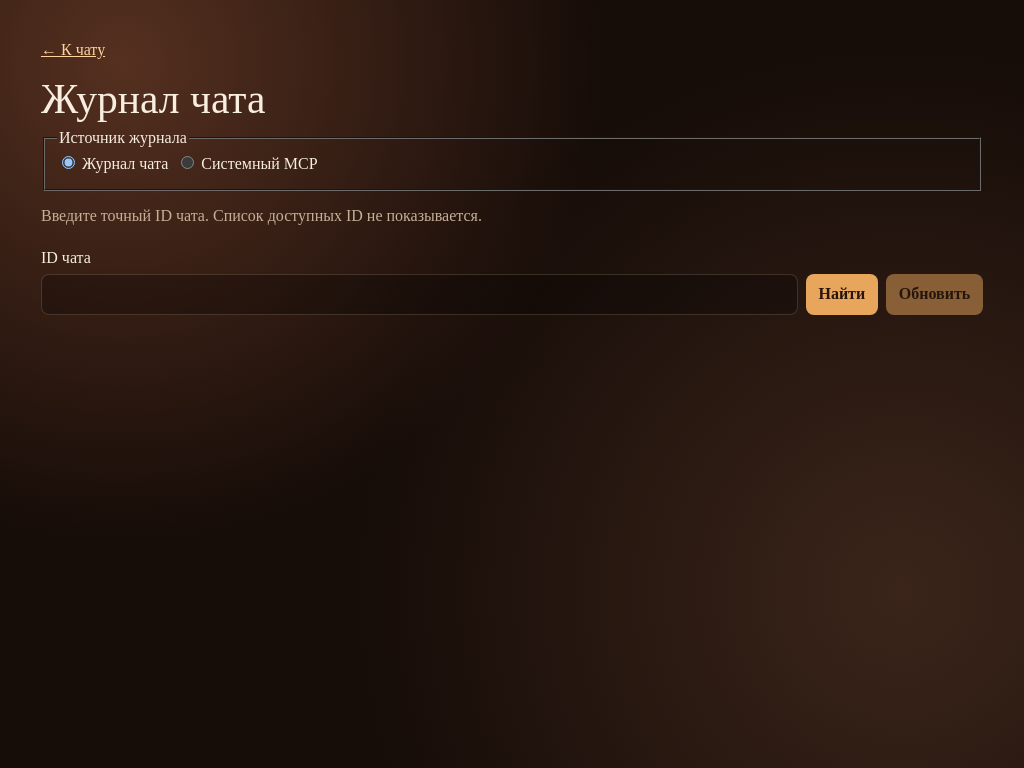
Test: AdminWorkspace › загружает MCP журнал без chat ID и показывает MCP/BrewMark событие
Click the radio button labelled "Системный MCP". click: point(188, 162)
box: [181,156,194,169]
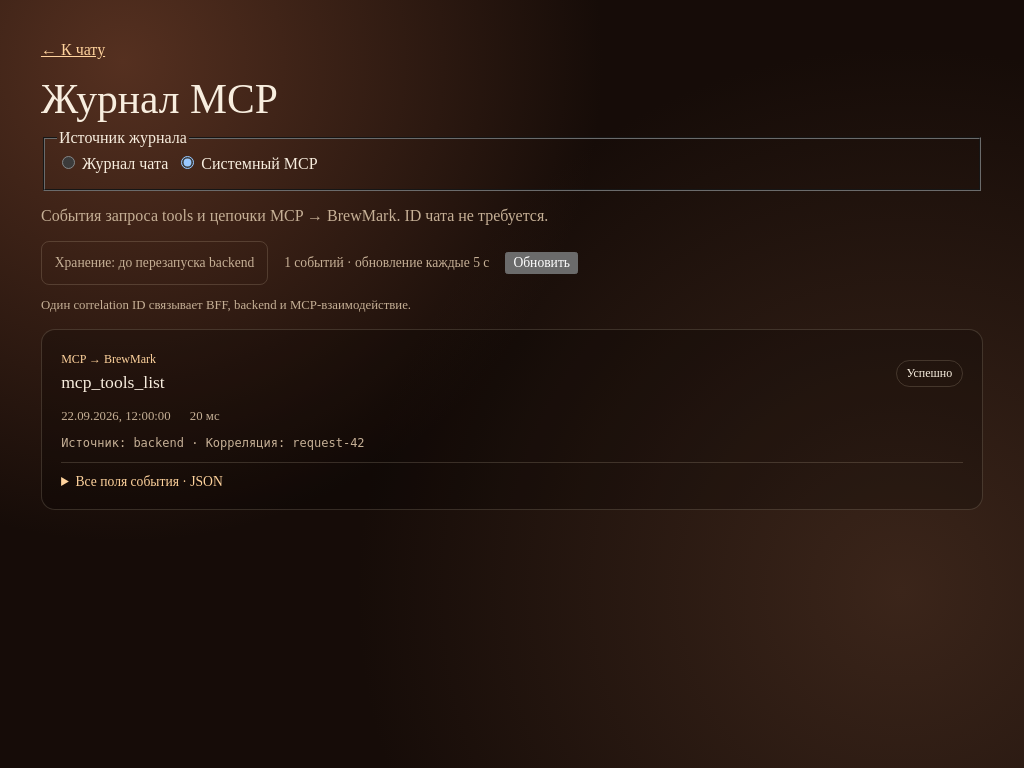
expect the text "MCP → BrewMark" is shown: met, box [61,352,156,366]
expect the heading "mcp_tools_list" is shown: met, box [61,372,165,393]
expect the text "Источник: backend · Корреляция: request-42" is shown: met, box [61,436,365,450]
